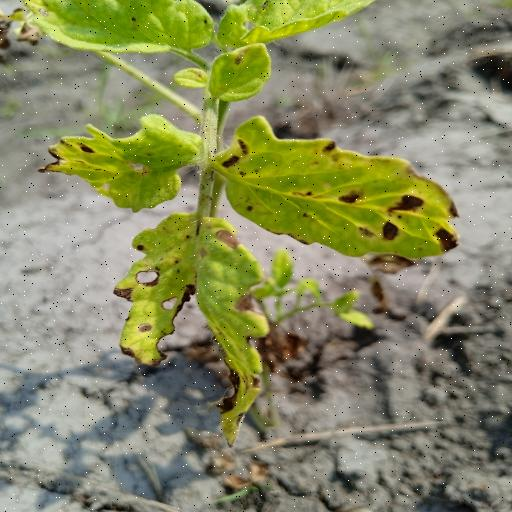Tomato_Brown_Spots: (110, 216, 276, 446), (219, 112, 467, 263), (38, 108, 209, 215)
